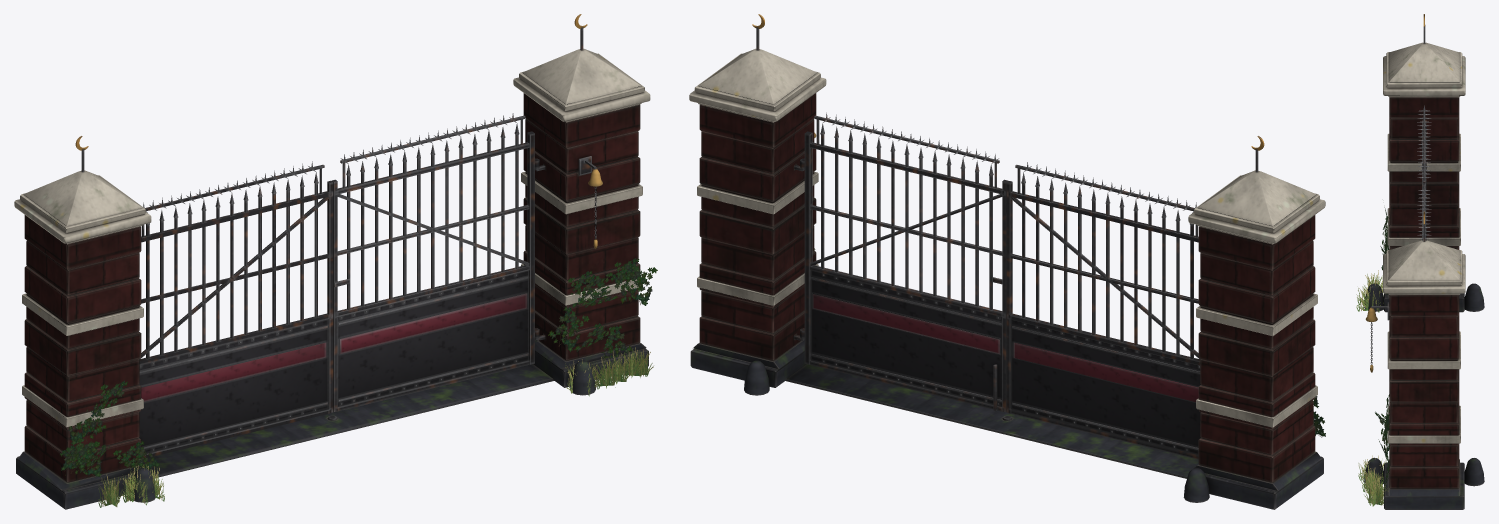
File: GateService.fbx
3 renders of one model, left to right at view 1: azimuth 30°, elevation 25°; view 2: azimuth 150°, elevation 25°; view 3: azimuth 270°, elevation 25°, orthographic. The views are drawn at different scales.
Parts seen in each view (by area): view 1: GateService_Main, GateService_Leaf1, GateService_Leaf0, GateService_Leaves; view 2: GateService_Main, GateService_Leaf1, GateService_Leaf0; view 3: GateService_Main, GateService_Leaves, GateService_Leaf0, GateService_Leaf1.
Boxes of the visible parts, x1,y1,x2,y2 form: GateService_Main: (14,14,650,509); GateService_Leaf1: (332,113,539,411); GateService_Leaf0: (139,161,333,457); GateService_Leaves: (60,258,657,507); GateService_Main: (689,14,1325,509); GateService_Leaf1: (800,112,1007,412); GateService_Leaf0: (1006,162,1200,459); GateService_Main: (1364,14,1484,509); GateService_Leaves: (1356,207,1389,506); GateService_Leaf0: (1417,105,1431,240); GateService_Leaf1: (1417,185,1431,240).
Size of the model in its own units: 1916 by 1061 by 439.
